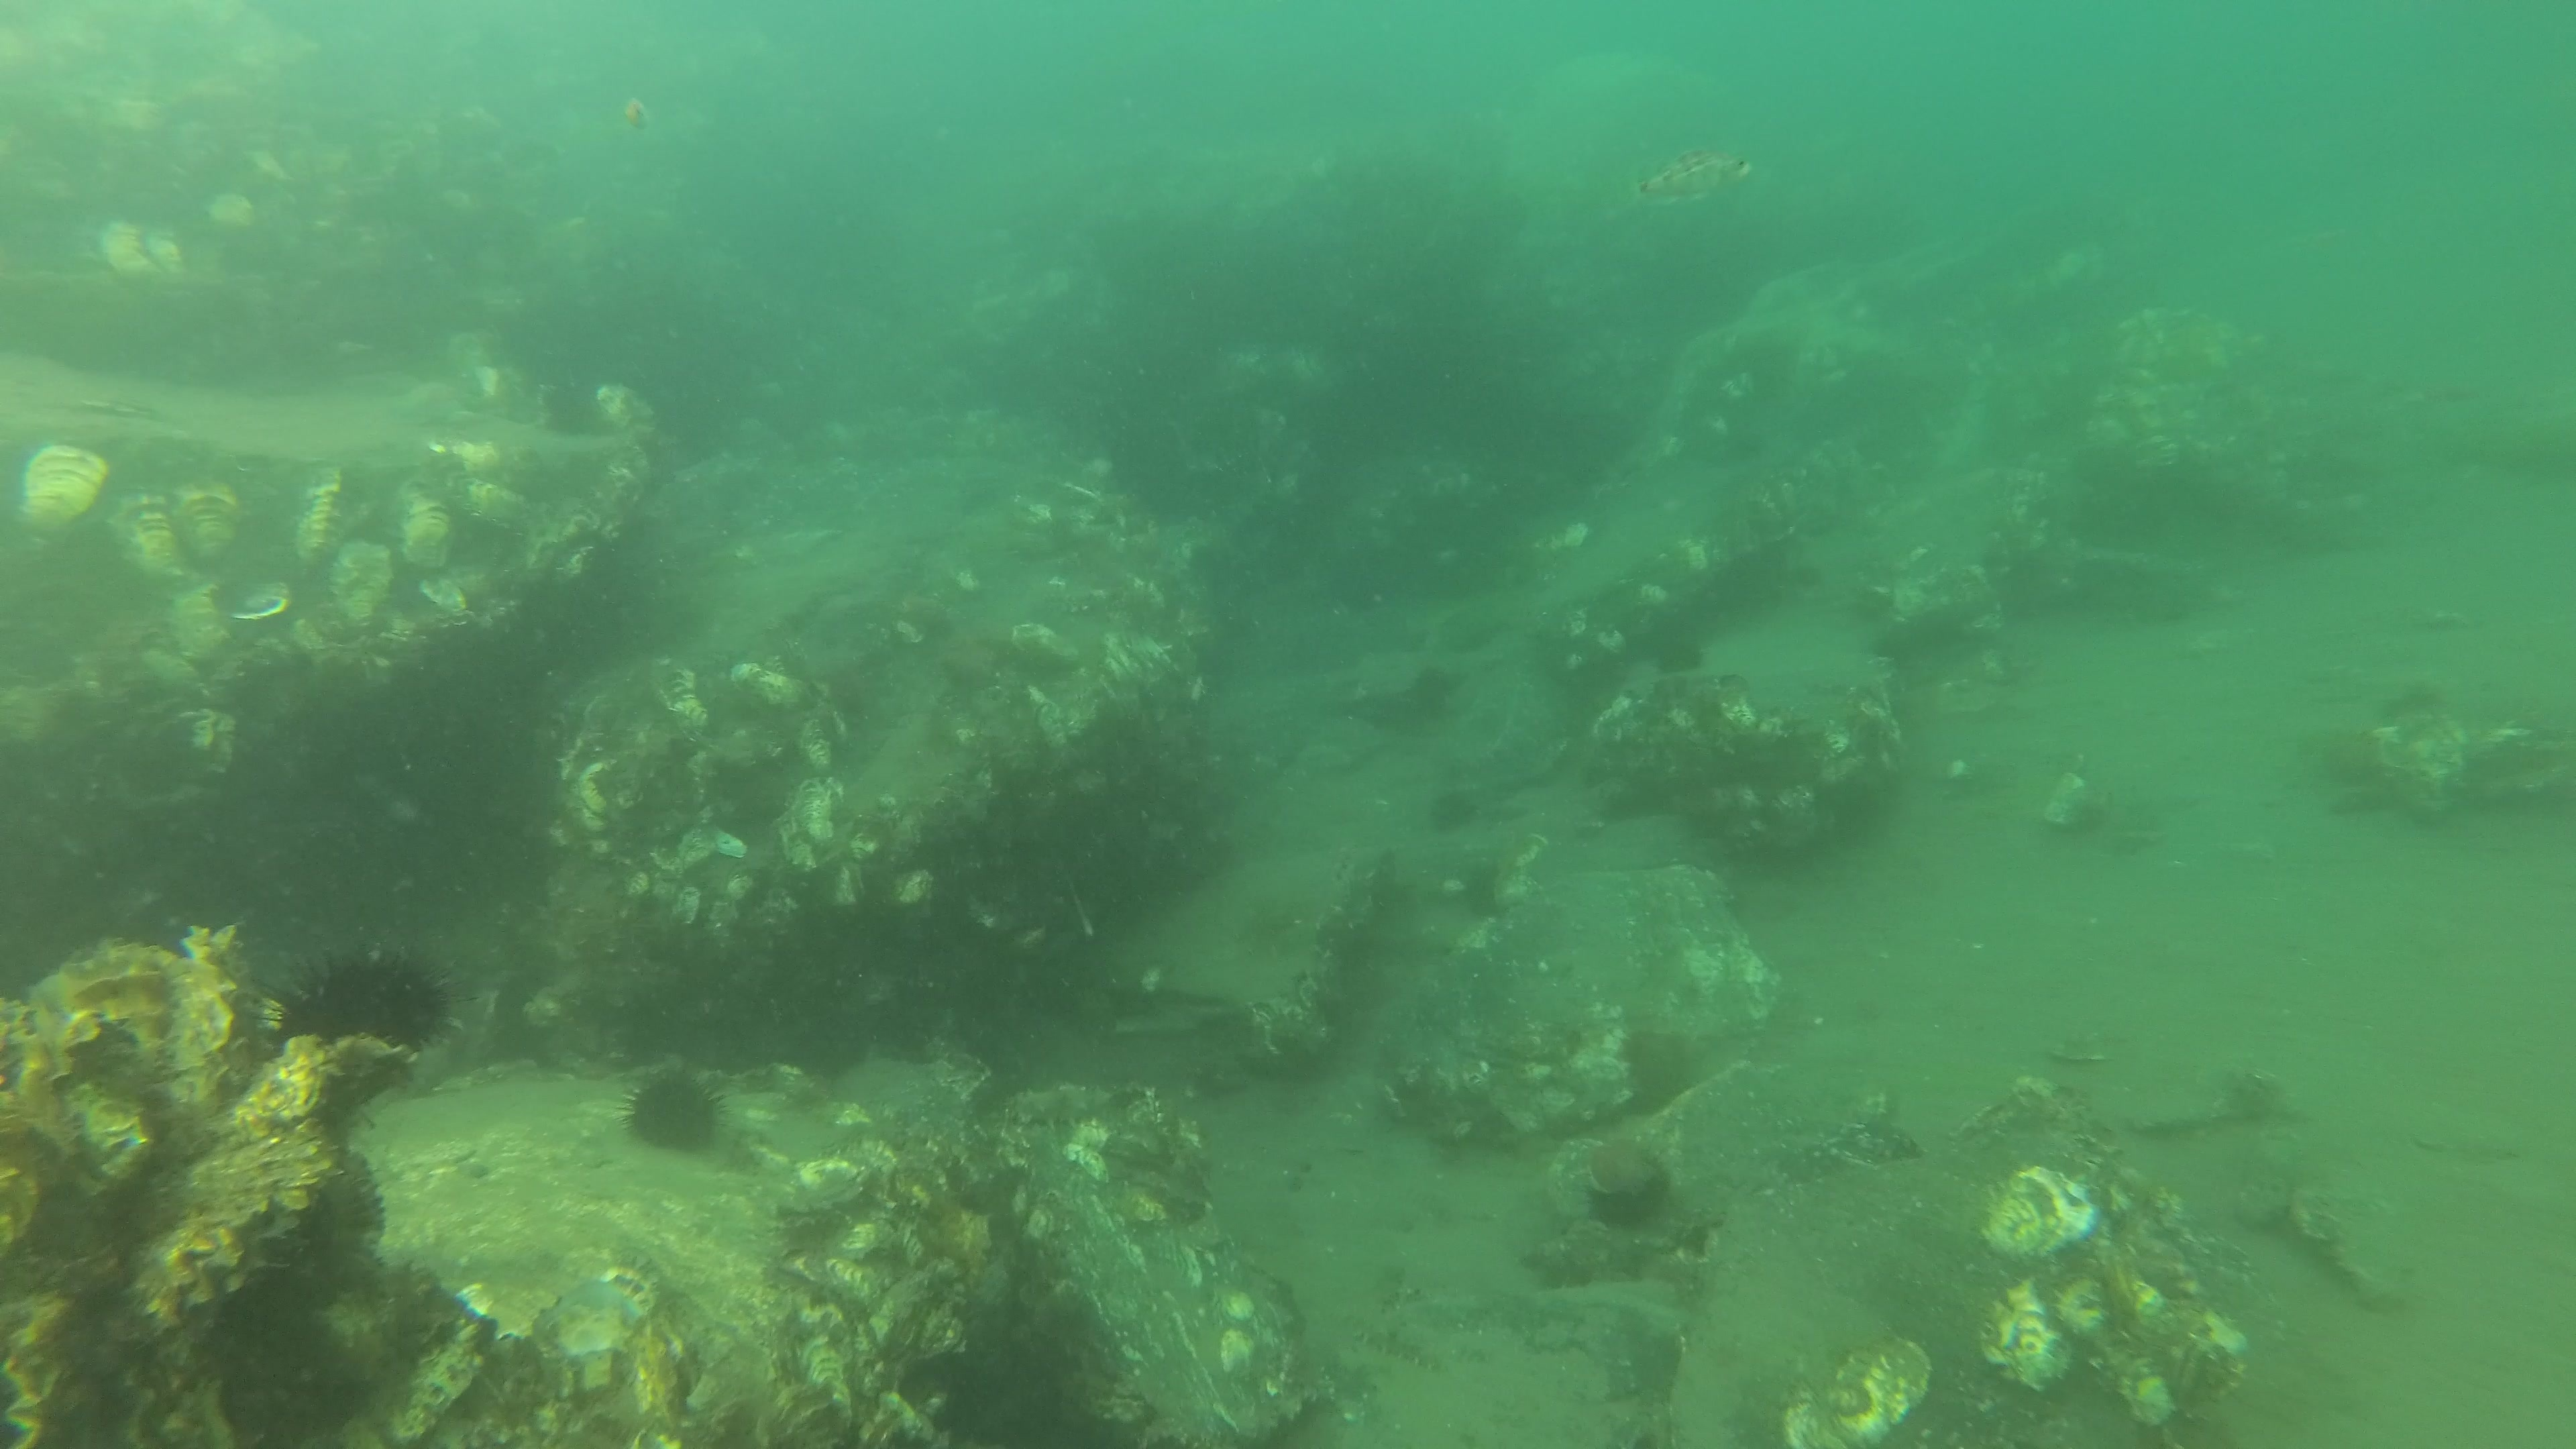echinus: (269, 947, 449, 1054), (625, 1072, 727, 1152), (536, 375, 605, 449), (1463, 870, 1511, 918), (1647, 635, 1704, 674), (1431, 778, 1477, 826)
